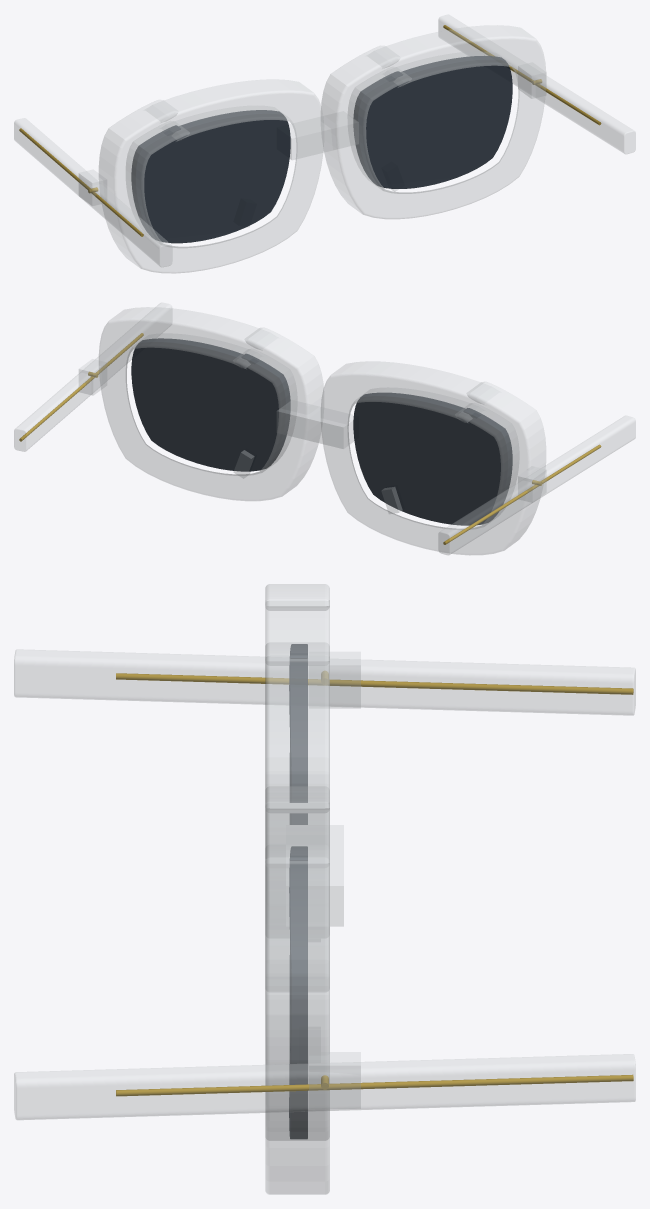
Rendered from lucent_v1.glb.
3 renders of one model, top to bottom at view 1: azimuth 30°, elevation 25°; view 2: azimuth 150°, elevation 25°; view 3: azimuth 270°, elevation 25°, orthographic. The views are drawn at different scales.
Visible parts, largest first — view 1: LUCENT_V1; view 2: LUCENT_V1; view 3: LUCENT_V1.
Boxes of the visible parts, bbox=[...] form: LUCENT_V1: bbox=[14, 14, 635, 273]; LUCENT_V1: bbox=[14, 303, 635, 555]; LUCENT_V1: bbox=[14, 584, 635, 1194].
Size of the model in its own units: 1.03 by 0.3458 by 0.6238.
